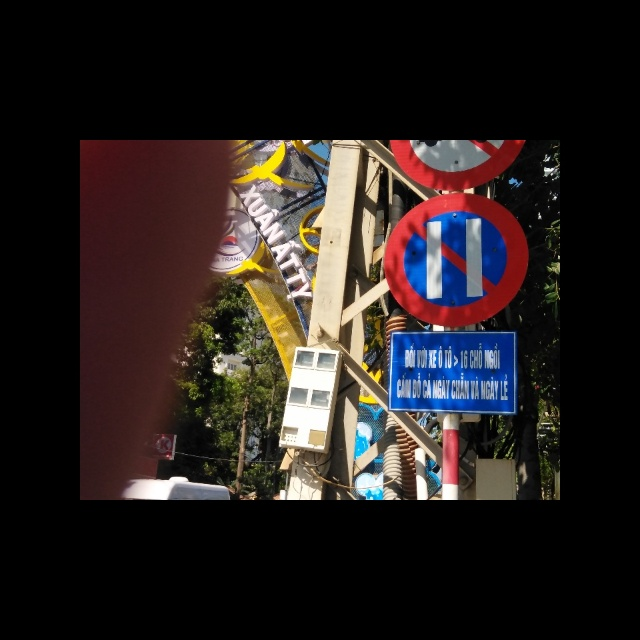Cấm đỗ xe ngày chẵn: (381, 190, 527, 330)
